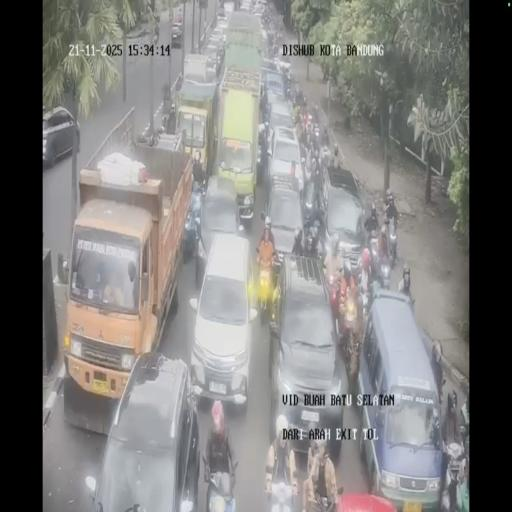3: (172, 66, 218, 181), (222, 10, 264, 82)
car: (356, 290, 442, 504), (89, 352, 199, 508), (268, 256, 347, 453), (196, 171, 244, 285), (320, 170, 369, 272), (263, 181, 306, 271), (266, 102, 296, 148), (262, 67, 288, 109), (204, 27, 226, 74), (170, 9, 182, 46), (214, 15, 230, 38), (260, 27, 269, 63), (251, 0, 265, 16), (222, 0, 235, 16), (240, 0, 252, 13)
truck: (203, 454, 238, 510), (255, 254, 281, 325), (367, 231, 387, 284), (325, 272, 343, 326), (336, 322, 352, 364), (386, 216, 398, 266), (358, 278, 372, 320), (303, 155, 315, 186), (268, 38, 280, 58)
